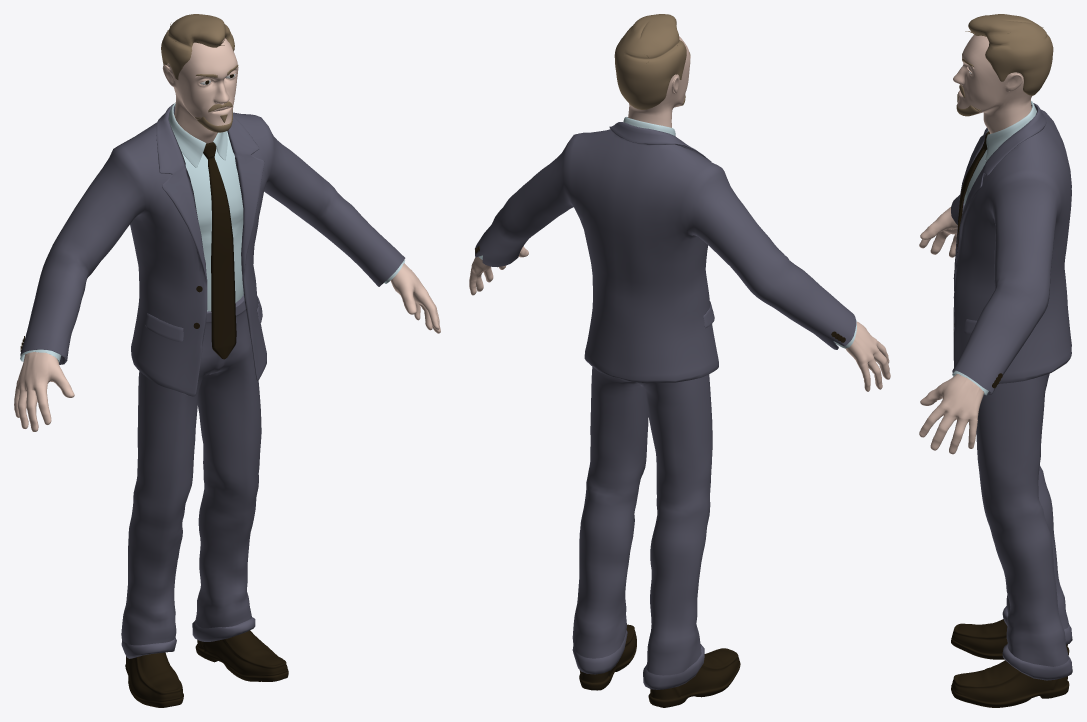
Rendered from BackgroundMale.fbx.
3 renders of one model, left to right at view 1: azimuth 30°, elevation 25°; view 2: azimuth 150°, elevation 25°; view 3: azimuth 270°, elevation 25°, orthographic.
Parts seen in each view (by area): view 1: Jacket, Pants, Head, Shirt, Tie, L_Foot, R_Hand, R_Foot, L_Hand; view 2: Jacket, Pants, Head, R_Foot, R_Hand, L_Foot, L_Hand; view 3: Jacket, Pants, Head, L_Foot, L_Hand, R_Foot, Shirt, R_Hand, Tie.
Part boxes in pixels (x1,y1,x2,y2): Jacket: (20,104,405,396); Pants: (121,295,261,658); Head: (161,14,238,143); Shirt: (20,103,404,362); Tie: (203,133,236,359); L_Foot: (195,630,288,681); R_Hand: (14,352,74,431); R_Foot: (125,652,183,707); L_Hand: (390,263,440,333); Jacket: (475,122,856,383); Pants: (572,367,712,689); Head: (614,14,690,127); R_Foot: (648,648,740,707); R_Hand: (845,321,890,391); L_Foot: (579,624,636,690); L_Hand: (469,246,528,295); Jacket: (951,103,1071,395); Pants: (976,373,1072,680); Head: (953,14,1053,133); L_Foot: (951,660,1069,707); L_Hand: (919,374,984,454); R_Foot: (951,619,1069,659); Shirt: (952,101,1036,395); R_Hand: (919,207,957,257); Tie: (953,131,989,330).
Bounding box in the file's own units: 3.8 × 5.86 × 1.24.
